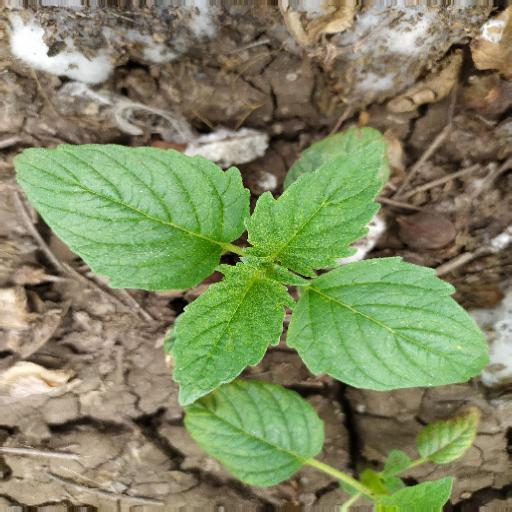crop: (15, 81, 501, 405)
